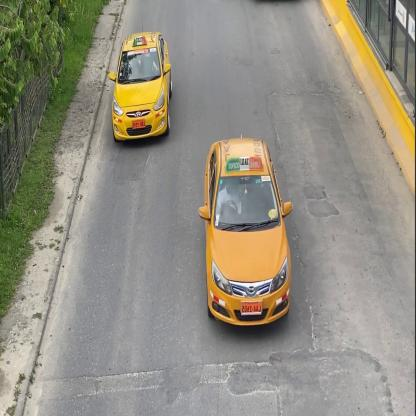Placa: (240, 302, 262, 316), (130, 119, 146, 132)
